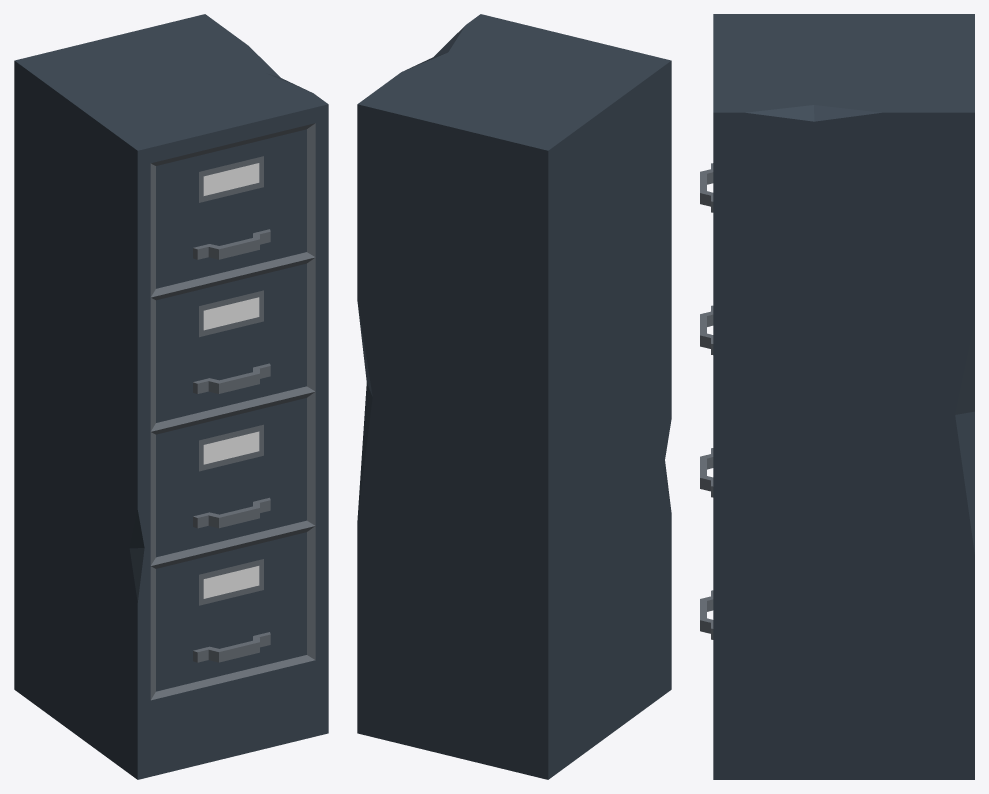
File: File_Cabinet_01.FBX
The picture shows the model from 3 angles, left to right: view 1: azimuth 30°, elevation 25°; view 2: azimuth 150°, elevation 25°; view 3: azimuth 270°, elevation 25°; orthographic projection. The views are drawn at different scales.
Visible parts, largest first — view 1: File_Cabinet_01; view 2: File_Cabinet_01; view 3: File_Cabinet_01.
Boxes of the visible parts, <box> form: File_Cabinet_01: <box>14,14,328,779</box>; File_Cabinet_01: <box>357,14,671,779</box>; File_Cabinet_01: <box>700,14,974,779</box>.
Size of the model in its own units: 47.99 by 151 by 56.44.
